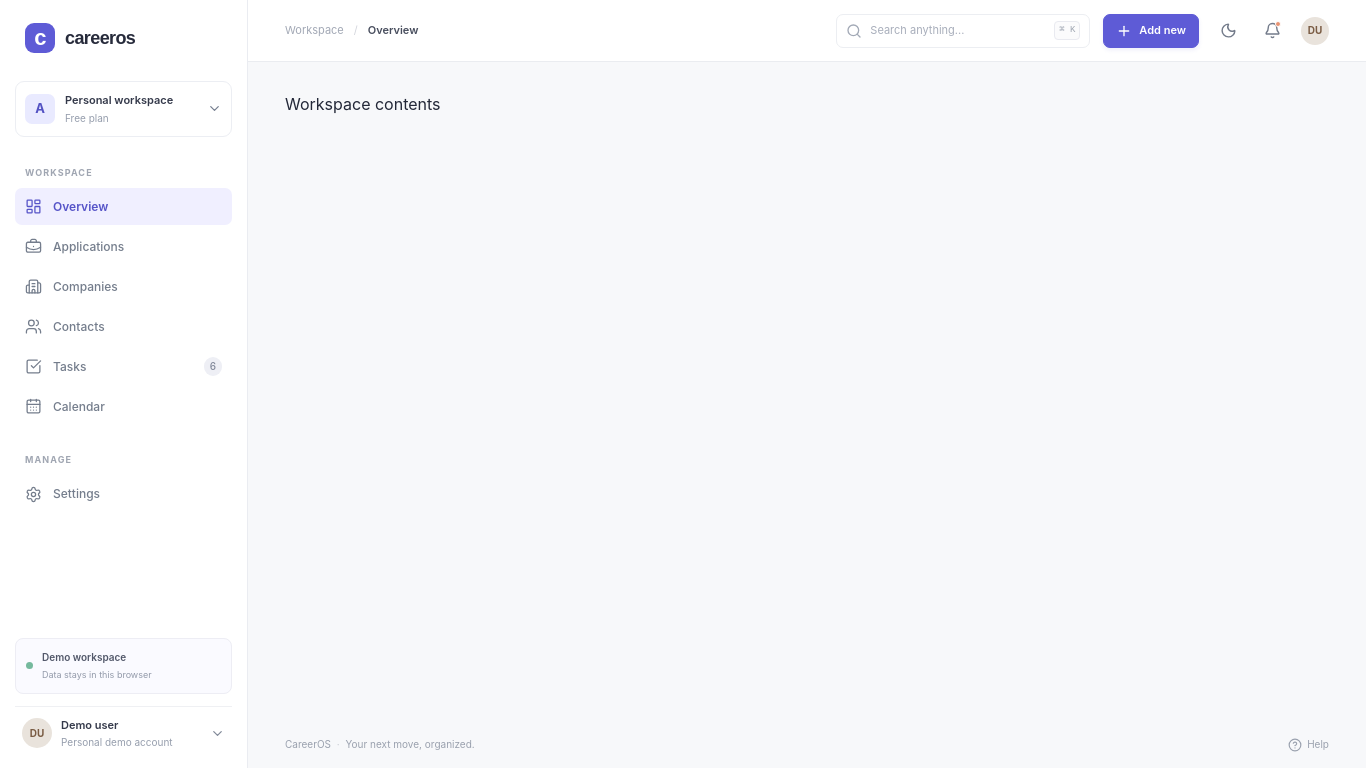
it: AppShell authentication menu › offers sign-in and account creation when signed out in demo mode
Click the button with aria-label "Open profile menu". click: (1315, 30)
box: left=1301, top=16, right=1329, bottom=44
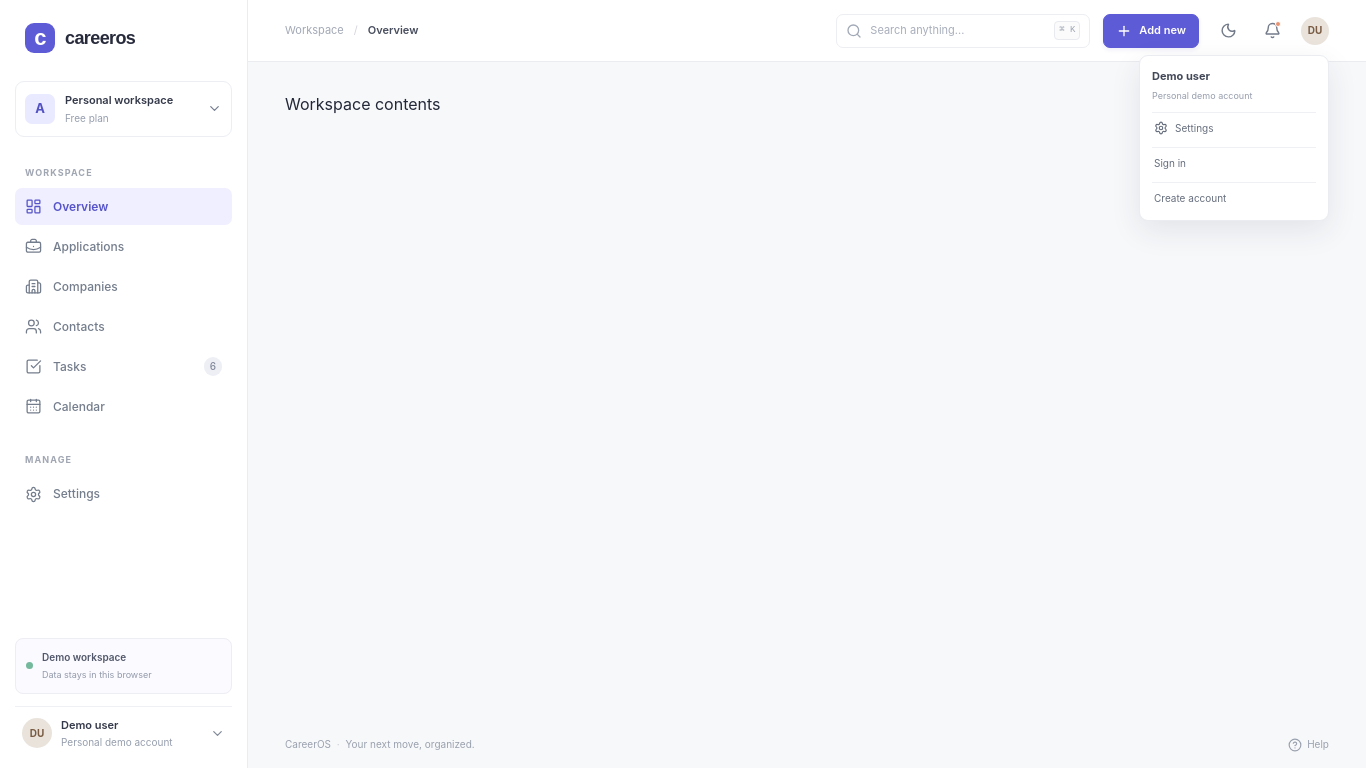
Expected: the text "Personal demo account" below "Data stays in this browser" is shown, left=61, top=736, right=173, bottom=748
Expected: the link "Sign in" is shown, left=1152, top=146, right=1316, bottom=172
Expected: the link "Create account" is shown, left=1152, top=182, right=1316, bottom=208
